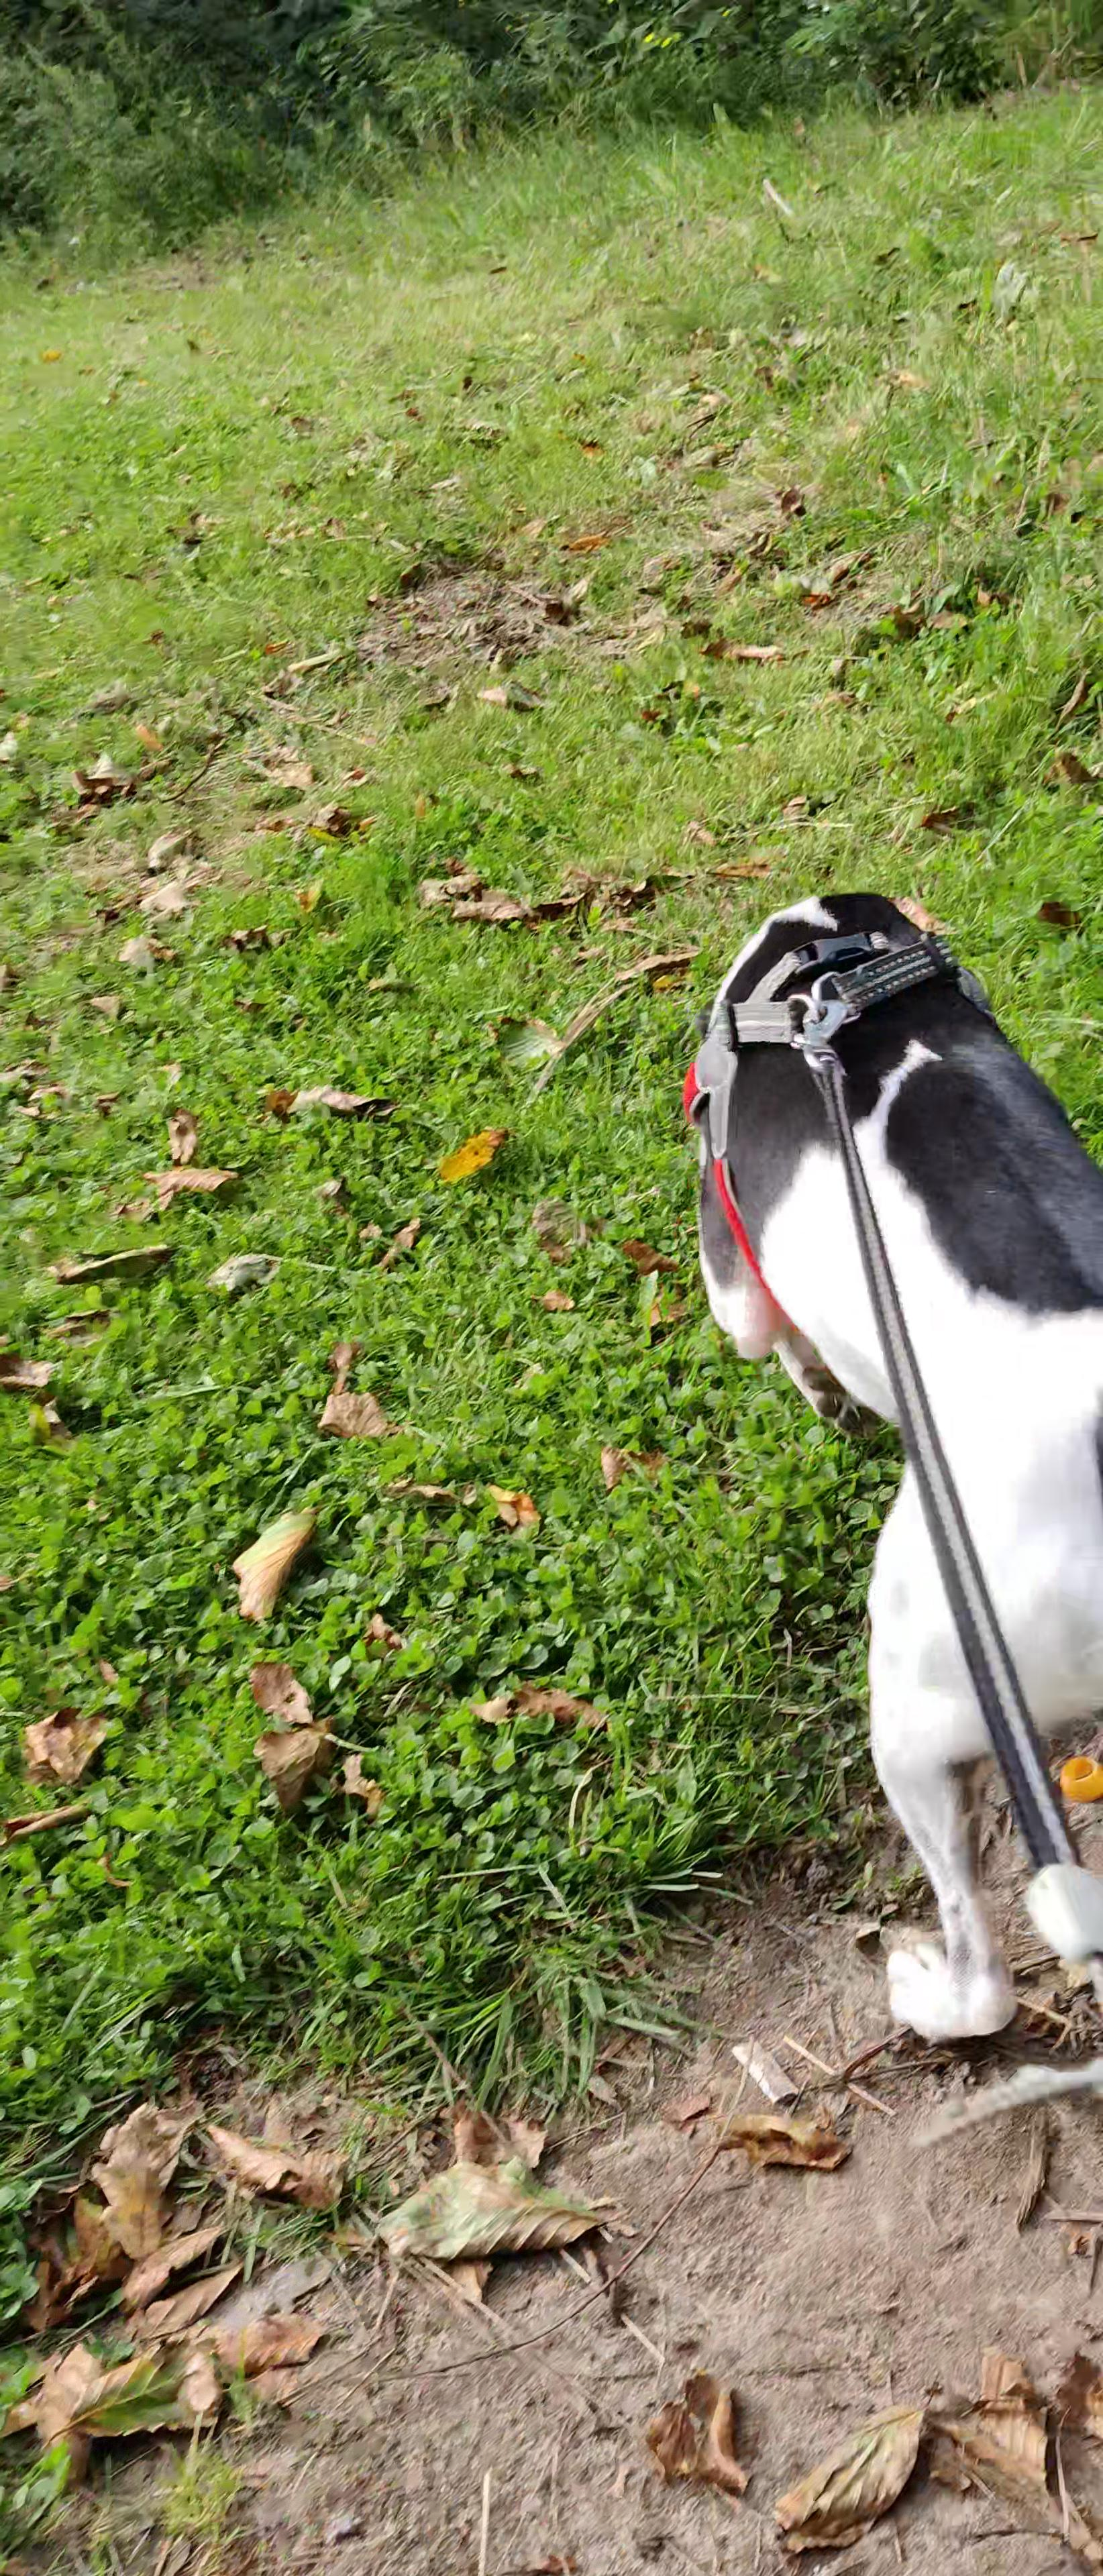Dog: (641, 802, 1103, 2072)
